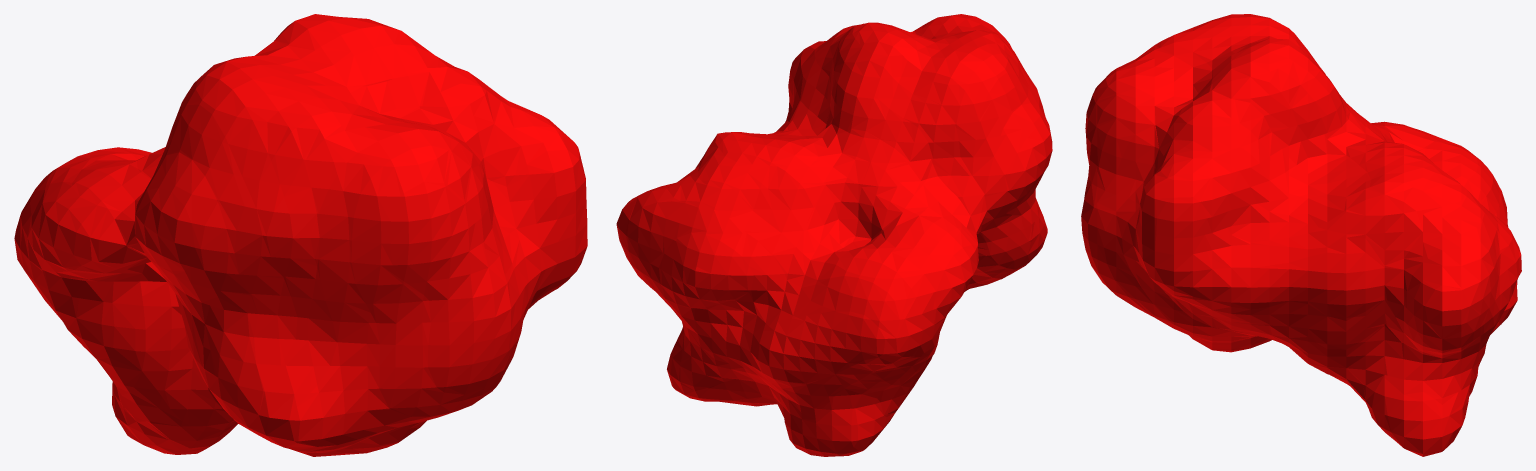
File: narP_coarse.dae
The picture shows the model from 3 angles, left to right: view 1: azimuth 30°, elevation 25°; view 2: azimuth 150°, elevation 25°; view 3: azimuth 270°, elevation 25°; orthographic projection. The views are drawn at different scales.
Visible parts, largest first — view 1: narP; view 2: narP; view 3: narP.
Boxes of the visible parts, x1,y1,x2,y2 form: narP: (14,14,587,456); narP: (616,14,1052,456); narP: (1081,14,1521,456).
Bounding box in the file's own units: 46.24 × 48.46 × 52.12.
